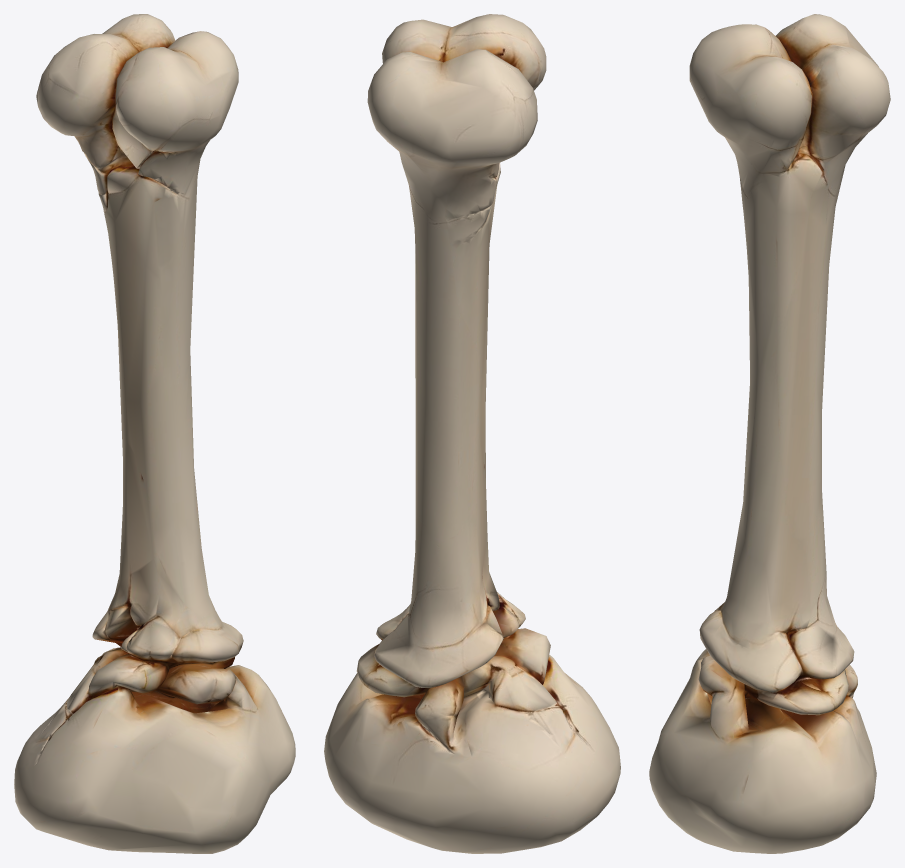
File: metacarpal.glb
The picture shows the model from 3 angles, left to right: view 1: azimuth 30°, elevation 25°; view 2: azimuth 150°, elevation 25°; view 3: azimuth 270°, elevation 25°; orthographic projection.
Visible parts, largest first — view 1: metacarpal; view 2: metacarpal; view 3: metacarpal.
Part boxes in pixels (bbox=[...]): metacarpal: bbox=[14, 14, 295, 853]; metacarpal: bbox=[324, 14, 620, 853]; metacarpal: bbox=[649, 14, 890, 853].
Size of the model in its own units: 0.342 by 1 by 0.2742.
Materials: 1 (1 with a texture image).
